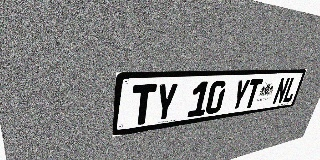0: (204, 80, 227, 115)
1: (187, 81, 211, 117)
L: (282, 77, 300, 103)
N: (272, 77, 291, 105)
T: (130, 84, 157, 126), (243, 79, 263, 109)
Y: (153, 83, 179, 123), (229, 79, 251, 111)
